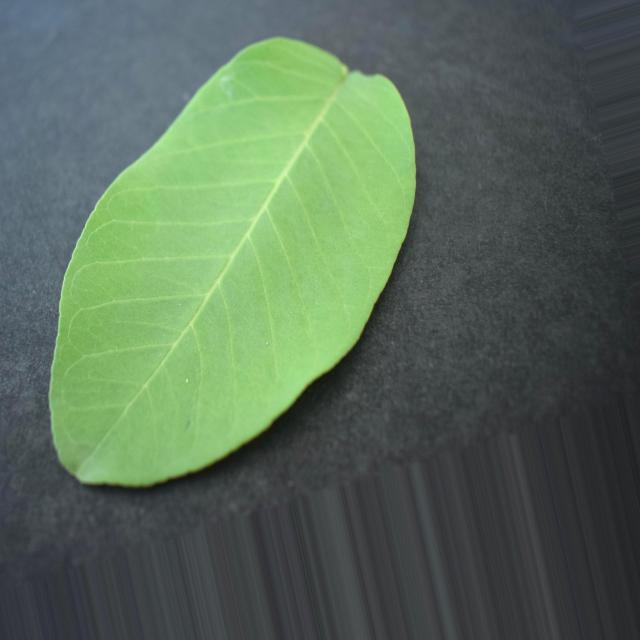Healthy: (50, 38, 415, 488)
